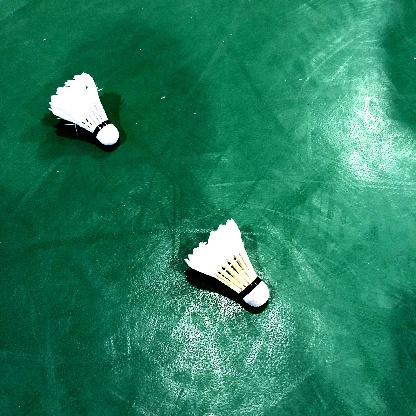ball_single: (184, 218, 269, 307), (49, 72, 119, 145)
